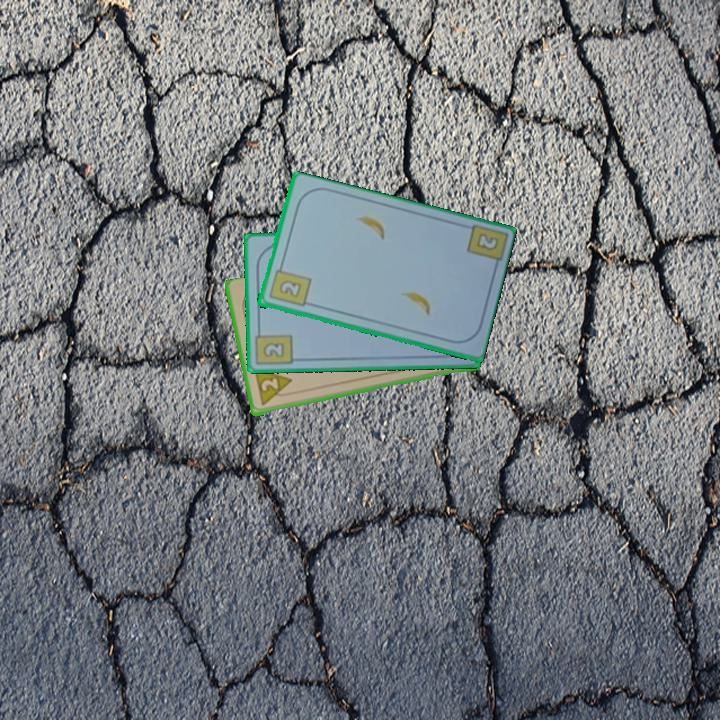2b: (265, 261, 313, 310), (253, 324, 295, 368), (472, 230, 501, 254)
2p: (250, 365, 296, 409)
